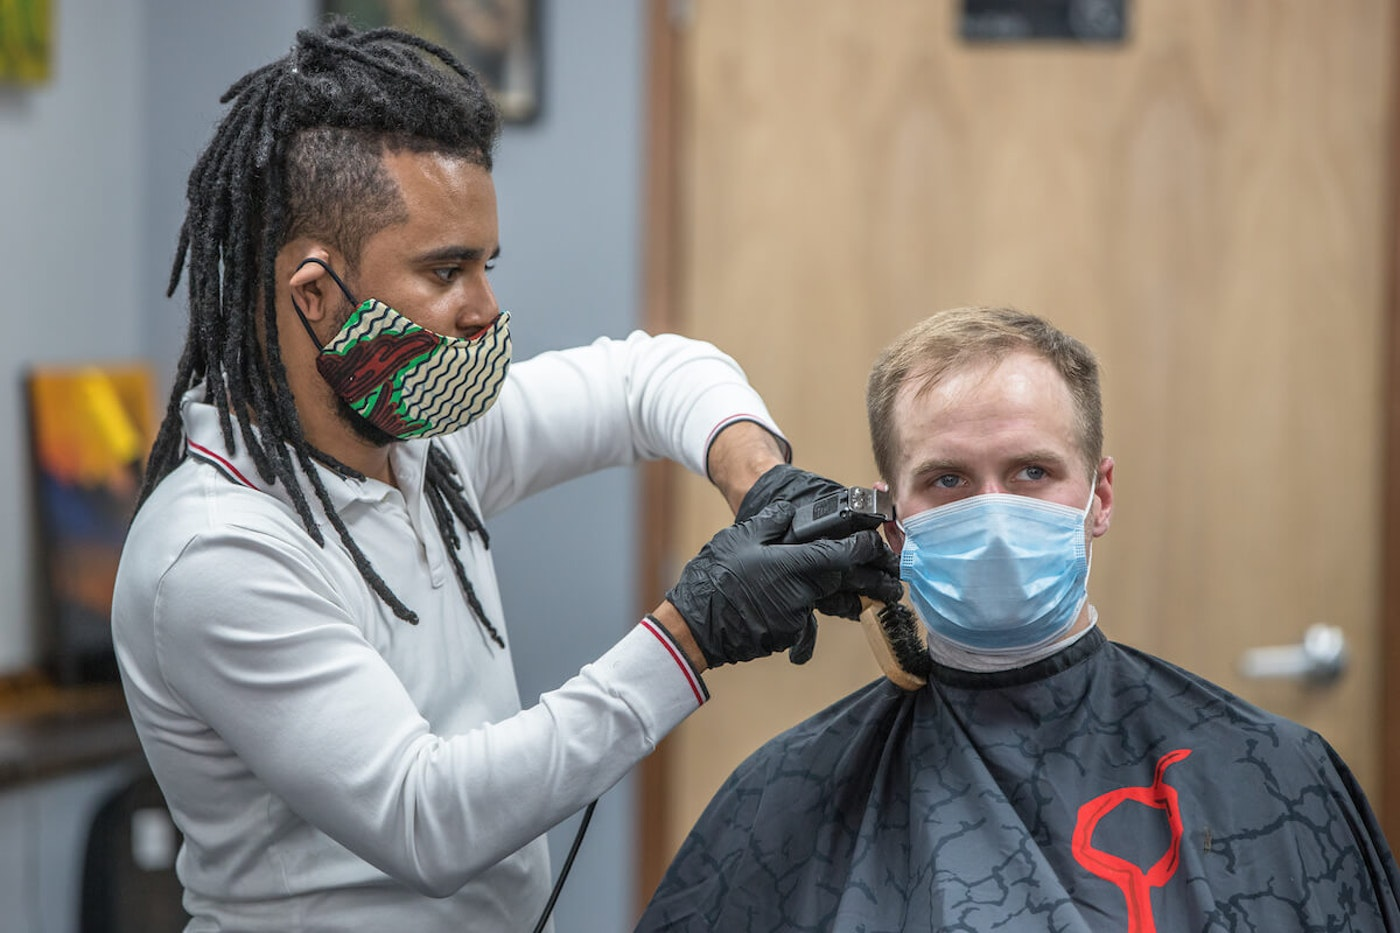with_incorrect_mask: (300, 163, 517, 458)
with_mask: (885, 412, 1102, 645)
